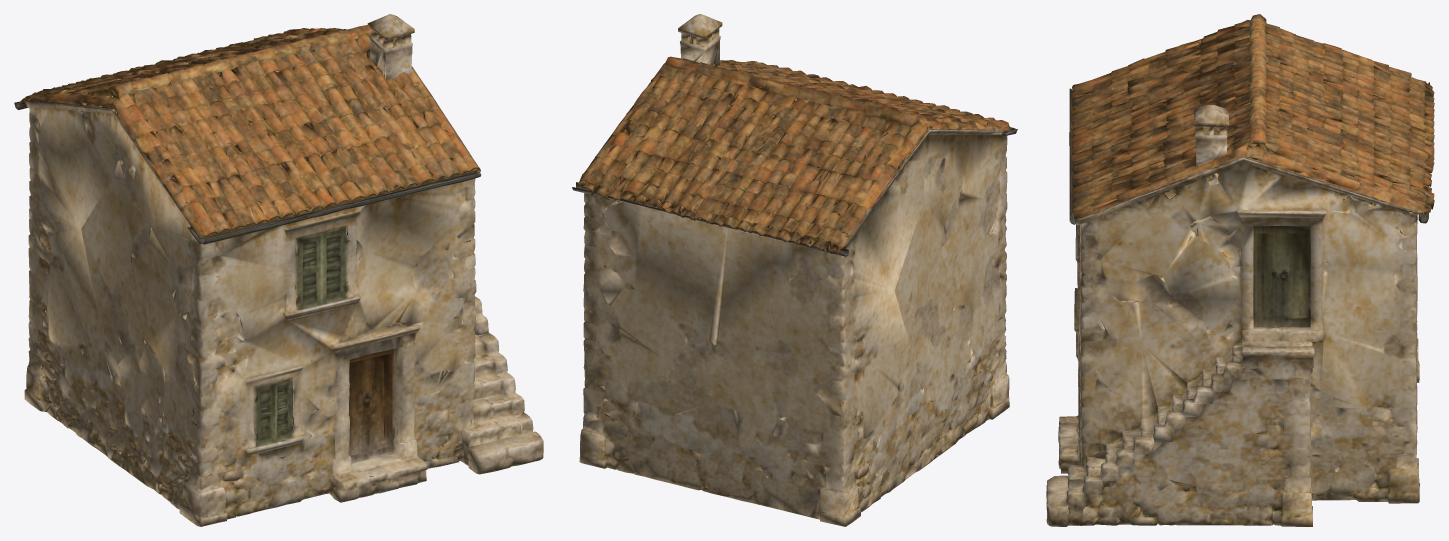
File: fisherman-cottage.glb
3 renders of one model, left to right at view 1: azimuth 30°, elevation 25°; view 2: azimuth 150°, elevation 25°; view 3: azimuth 270°, elevation 25°, orthographic. The views are drawn at different scales.
Parts seen in each view (by area): view 1: fisherman-cottage_LOD0; view 2: fisherman-cottage_LOD0; view 3: fisherman-cottage_LOD0.
Part boxes in pixels (x1=…): fisherman-cottage_LOD0: x1=14, y1=14, x2=543, y2=526; fisherman-cottage_LOD0: x1=572, y1=14, x2=1017, y2=526; fisherman-cottage_LOD0: x1=1046, y1=14, x2=1434, y2=526.
Size of what is drawn, in the model's own units: 7 by 7.96 by 7.21.
Materials: 1 (1 with a texture image).
